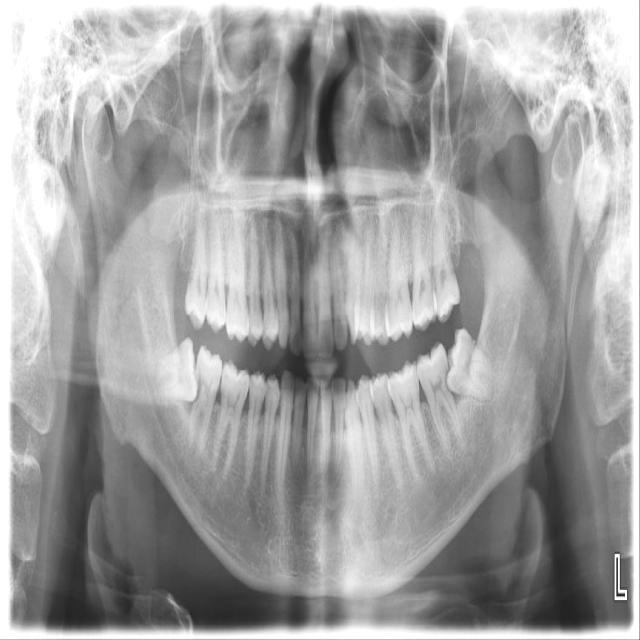Caries: (193, 362, 202, 405)
impacted tooth: (446, 328, 498, 404), (147, 337, 196, 401)
